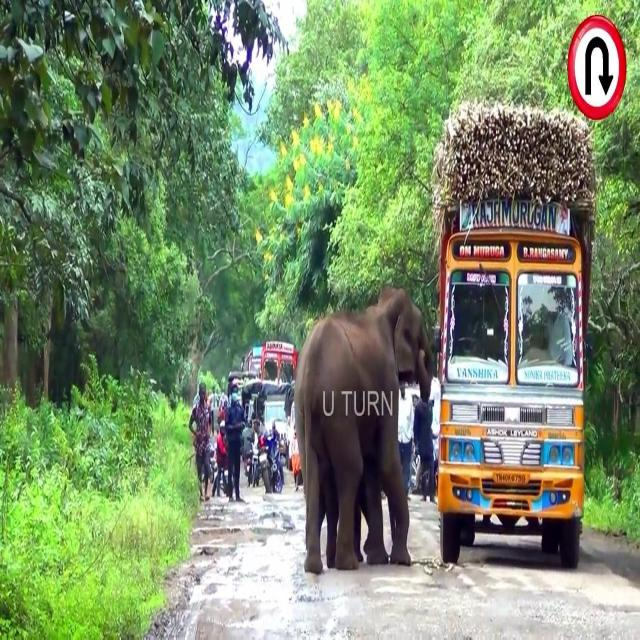Elephant: (294, 285, 432, 575)
